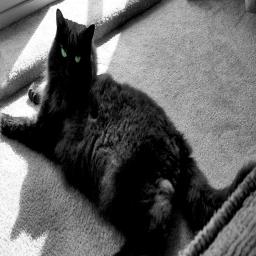catnose: (65, 66, 72, 78)
